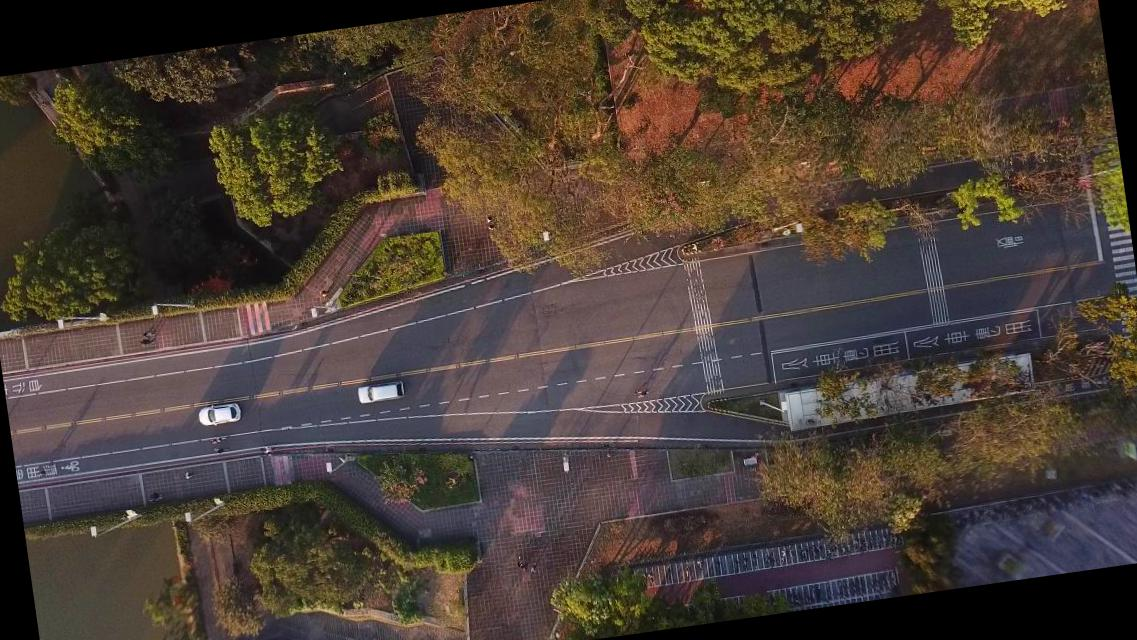vehicle: (356, 380, 404, 405), (198, 402, 243, 428)
